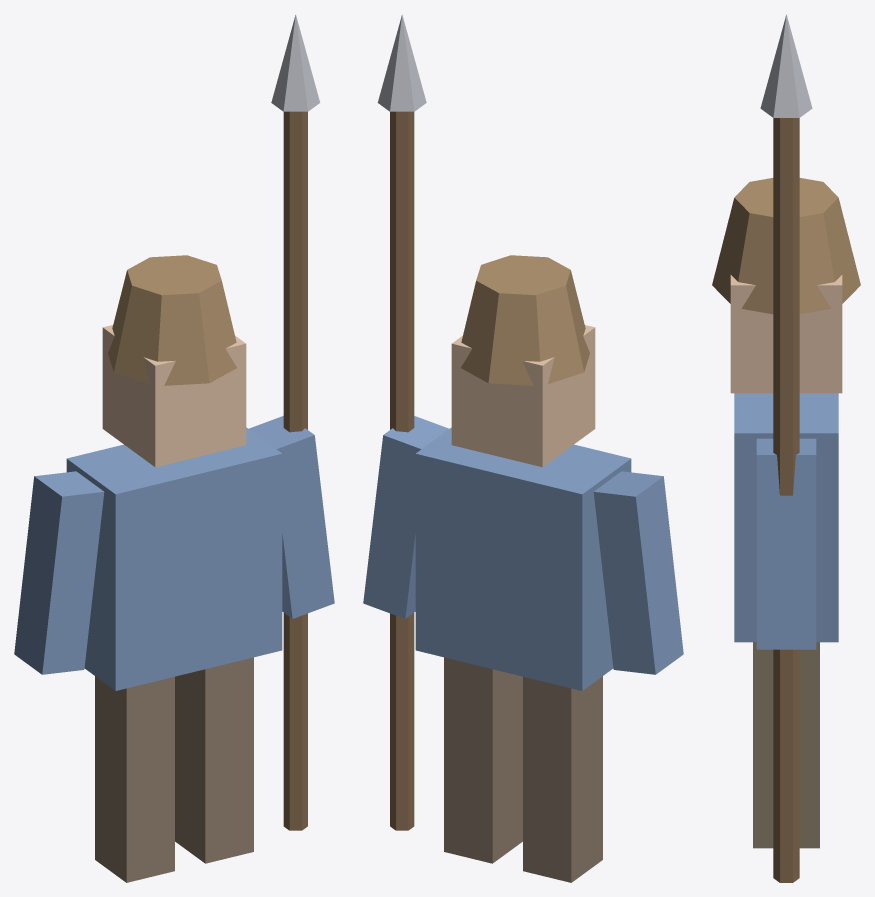
The model's file is Spearman.fbx.
The picture shows the model from 3 angles, left to right: view 1: azimuth 30°, elevation 25°; view 2: azimuth 150°, elevation 25°; view 3: azimuth 270°, elevation 25°; orthographic projection. The views are drawn at different scales.
Parts seen in each view (by area): view 1: Torso.002, LegL.002, LegR.002, ArmL.002, Shaft, Helm.001, Head.002, ArmR.002, Tip; view 2: Torso.002, LegL.002, LegR.002, ArmL.002, Shaft, Helm.001, Head.002, ArmR.002, Tip; view 3: Shaft, Torso.002, ArmR.002, Helm.001, LegR.002, Head.002, Tip.
Part boxes in pixels (box(x1,y1,x2,y2)): Torso.002: box(66, 427, 282, 690); LegL.002: box(95, 676, 174, 882); LegR.002: box(175, 657, 253, 863); ArmL.002: box(14, 471, 104, 674); Shaft: box(283, 111, 307, 830); Helm.001: box(108, 255, 236, 385); Head.002: box(102, 325, 246, 467); ArmR.002: box(248, 416, 334, 618); Tip: box(271, 14, 320, 111); Torso.002: box(415, 427, 631, 690); LegL.002: box(523, 676, 602, 882); LegR.002: box(444, 657, 522, 863); ArmL.002: box(593, 471, 683, 674); Shaft: box(390, 111, 414, 830); Helm.001: box(461, 255, 589, 385); Head.002: box(451, 325, 595, 467); ArmR.002: box(363, 416, 449, 618); Tip: box(377, 14, 426, 111); Shaft: box(773, 118, 799, 882); Torso.002: box(734, 393, 838, 642); ArmR.002: box(756, 438, 816, 649); Helm.001: box(712, 178, 860, 314); LegR.002: box(753, 642, 819, 848); Head.002: box(730, 275, 842, 393); Tip: box(760, 14, 812, 117).
Bounding box in the file's own units: 96.48 × 256 × 40.
